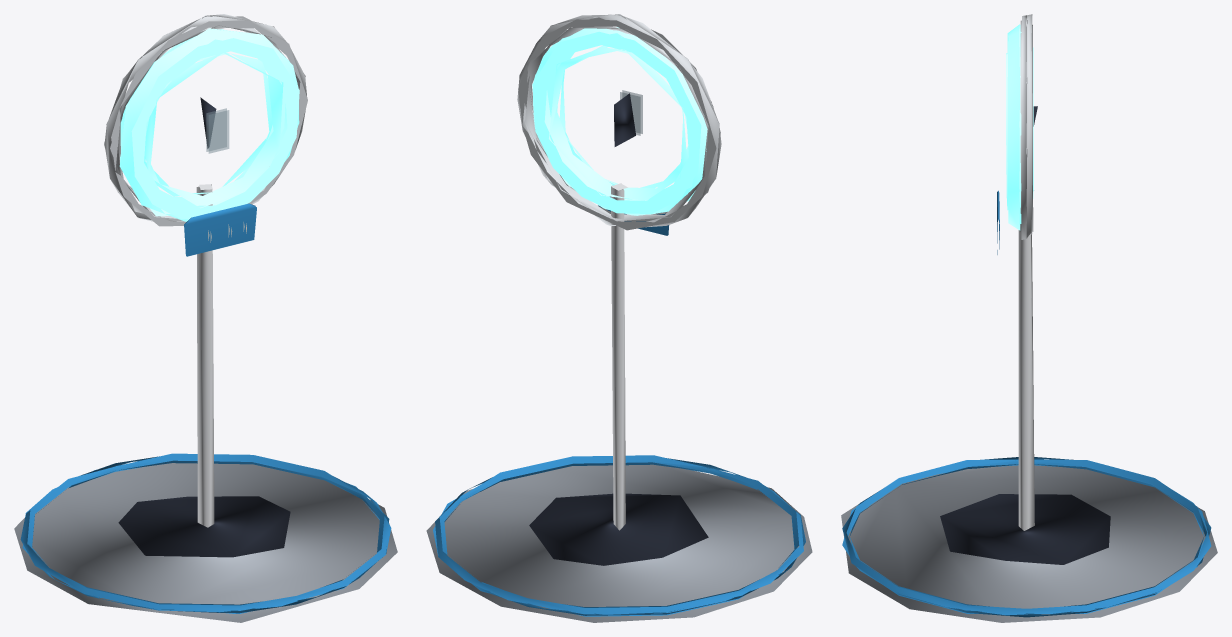
File: lod_selfie_totem.glb
The picture shows the model from 3 angles, left to right: view 1: azimuth 30°, elevation 25°; view 2: azimuth 150°, elevation 25°; view 3: azimuth 270°, elevation 25°; orthographic projection.
Visible parts, largest first — view 1: selfie_totem; view 2: selfie_totem; view 3: selfie_totem.
Part boxes in pixels (box(x1,y1,x2,y2)): selfie_totem: box(14, 14, 397, 622); selfie_totem: box(426, 14, 812, 622); selfie_totem: box(841, 14, 1217, 622).
Size of the model in its own units: 1.61 by 2.44 by 1.59.
